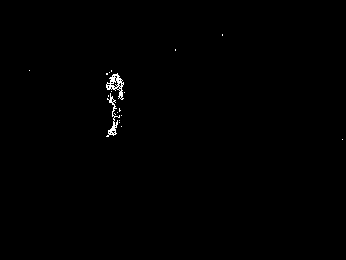person: (104, 71, 124, 139)
